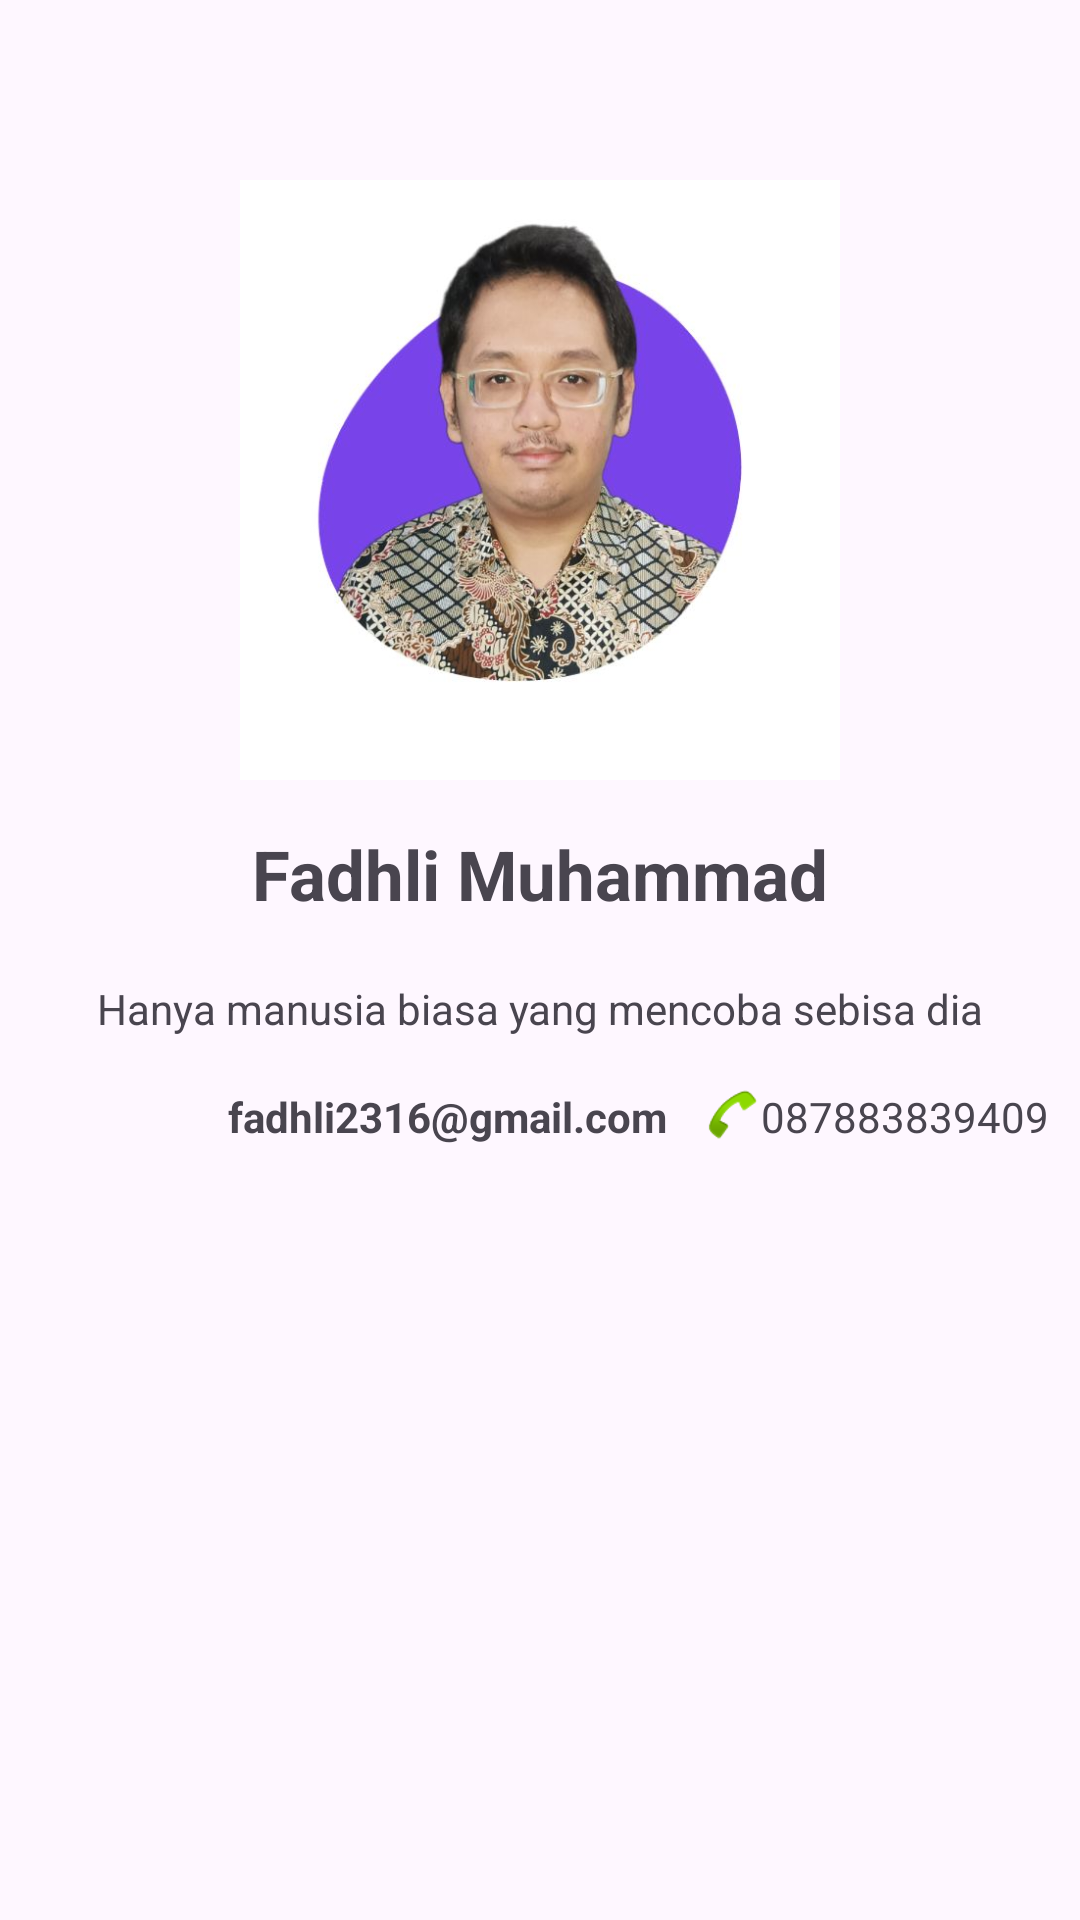

Icon click points for this 1080w x 1920h phone screenshot, format point (x, y):
sym action call: point (733, 1114)
